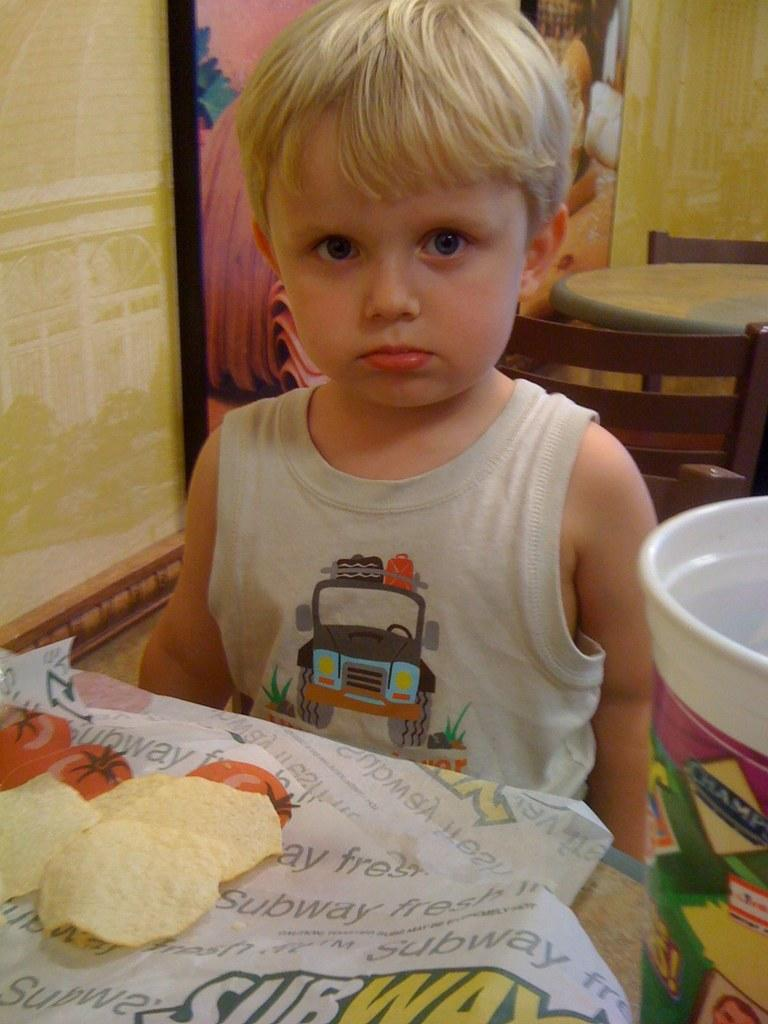Chair: (226, 462, 751, 721), (488, 307, 767, 522), (639, 232, 767, 399)
